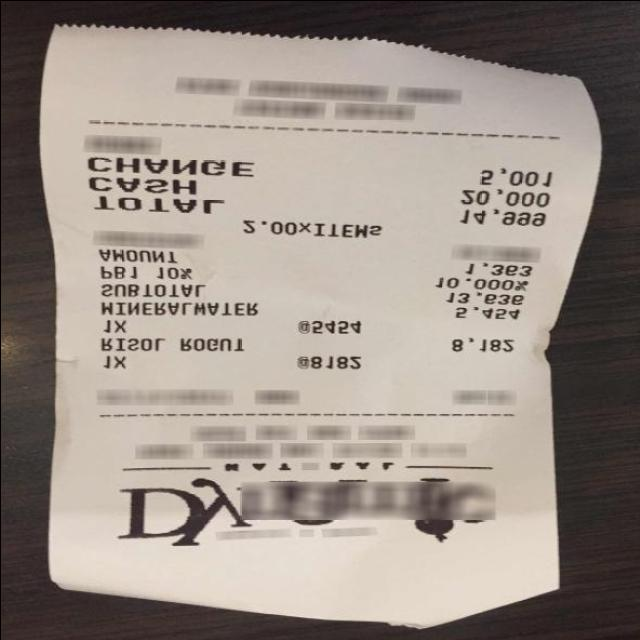kertas: (0, 9, 609, 640)
